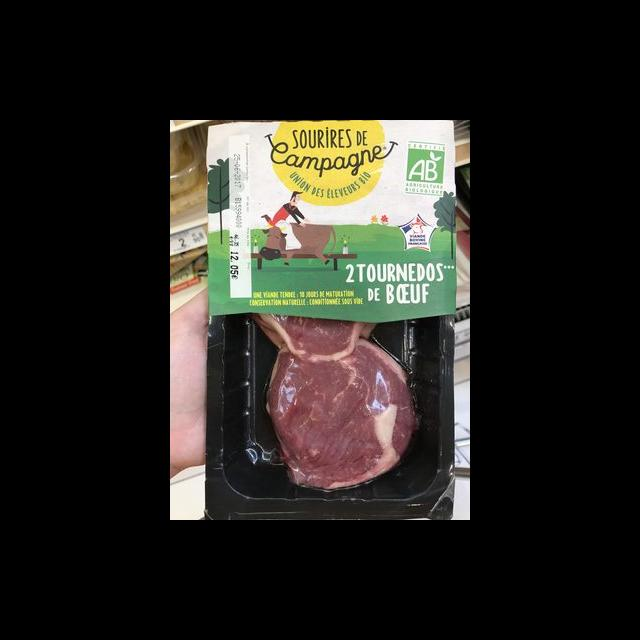beef: (265, 341, 414, 488)
